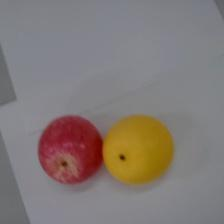red: (37, 114, 104, 186)
yellow: (101, 113, 174, 186)
